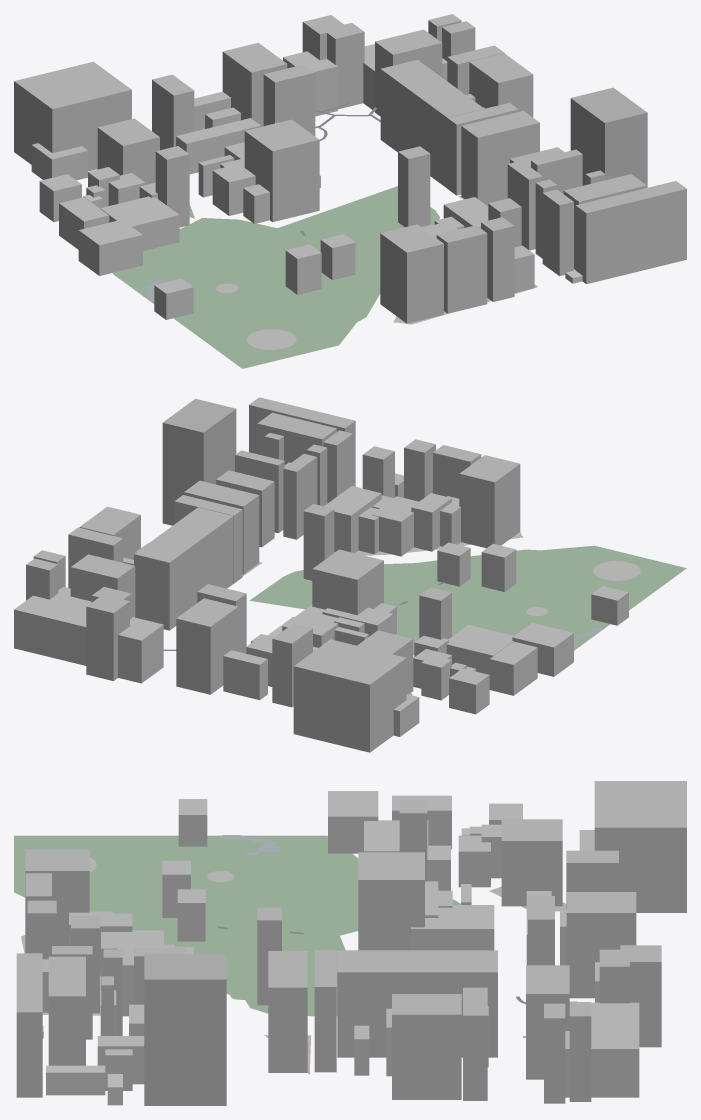
File: 118_100_mid.glb
The picture shows the model from 3 angles, top to bottom: view 1: azimuth 30°, elevation 25°; view 2: azimuth 150°, elevation 25°; view 3: azimuth 270°, elevation 25°; orthographic projection. The views are drawn at different scales.
Bounding box in the file's own units: 522 × 112 × 536.
